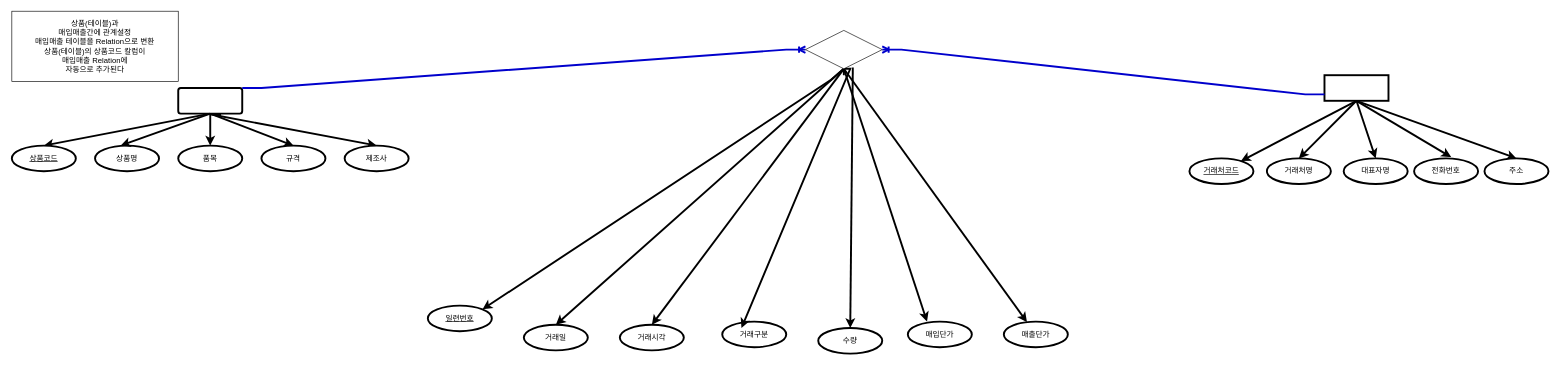
Image size: 1560x365. Some labels were removed from this diagram. The shapes that lost their labels are listed below. From the top down, each one's centre as x and y in pixels, then its label:
pixel 843 49: 매입매출
pixel 210 100: 상품
pixel 1356 87: 거래처
